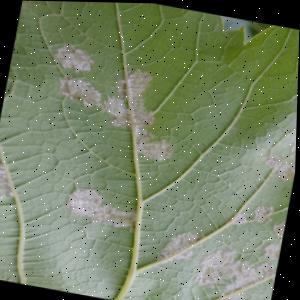Folha: (0, 0, 300, 300)
Fungo: (38, 39, 191, 161), (193, 241, 280, 300), (107, 62, 166, 130), (65, 183, 142, 230), (156, 224, 206, 267), (56, 72, 106, 107), (52, 39, 99, 74), (65, 183, 108, 219), (100, 92, 136, 127), (135, 132, 177, 161), (261, 149, 297, 179), (0, 160, 21, 202), (252, 200, 277, 223), (256, 258, 279, 276), (264, 150, 284, 168), (264, 239, 282, 258), (272, 215, 287, 236), (230, 209, 251, 224)
